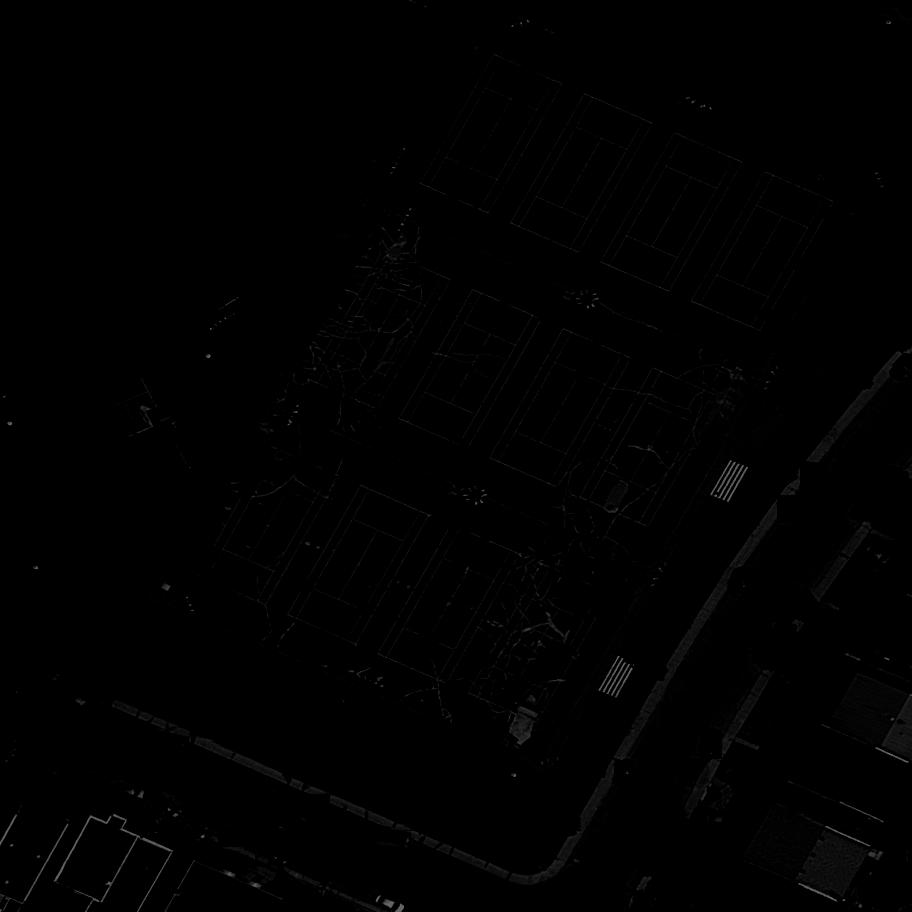small-vehicle: (150, 791, 184, 824), (56, 683, 93, 713), (255, 841, 292, 868), (864, 540, 896, 570), (681, 758, 709, 791), (727, 566, 754, 600), (801, 461, 829, 493), (635, 837, 663, 868), (778, 495, 805, 524), (115, 782, 149, 802), (297, 794, 331, 814), (218, 830, 256, 847), (702, 729, 722, 760), (615, 760, 635, 790), (376, 831, 413, 847), (157, 737, 189, 753), (704, 813, 727, 827)
